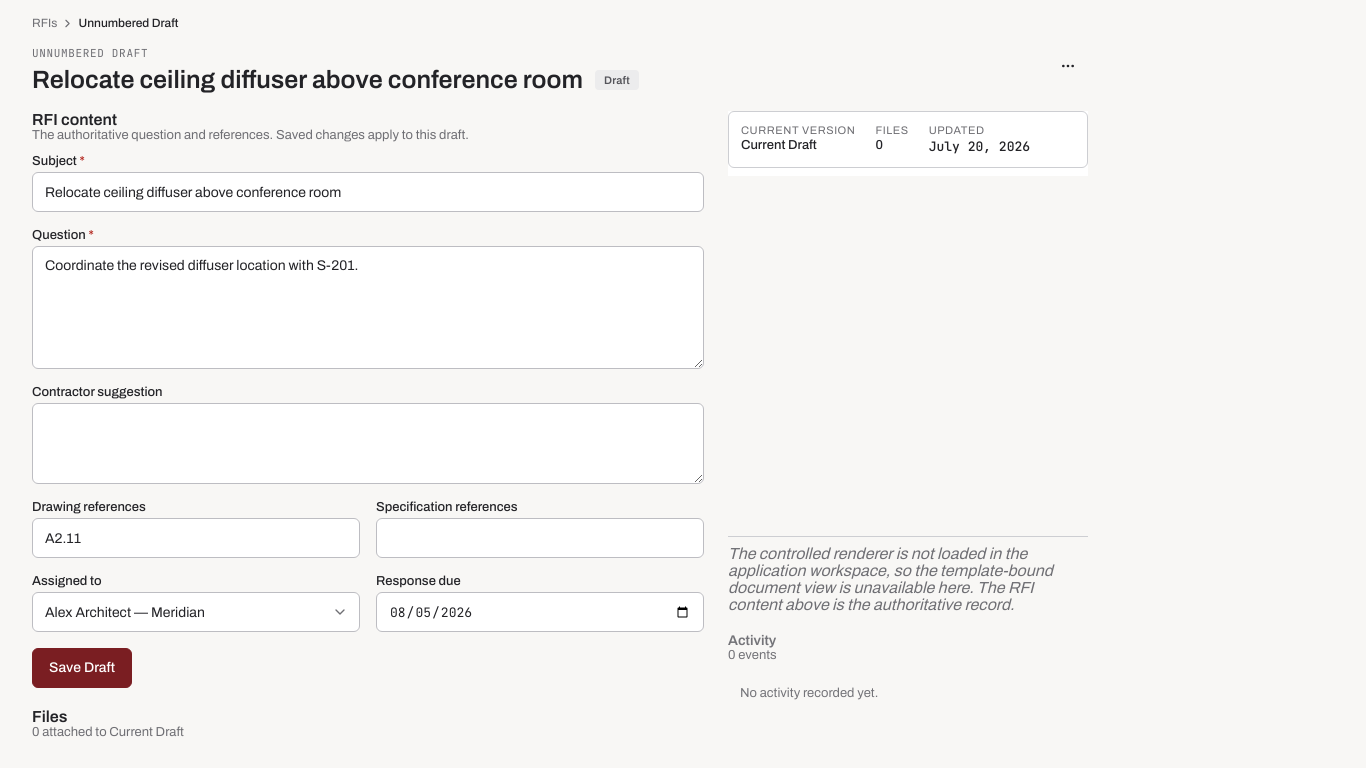
Test: RFI workspace — content and concurrency › says permission was lost rather than retrying a denied save
The image size is (1366, 768).
Expected: the header with class "base-workspace__identity" is shown, left=32, top=46, right=1088, bottom=95
Type "!" into the field labelled "Subject *" at coordinates (368, 192), box left=32, top=172, right=704, bottom=212
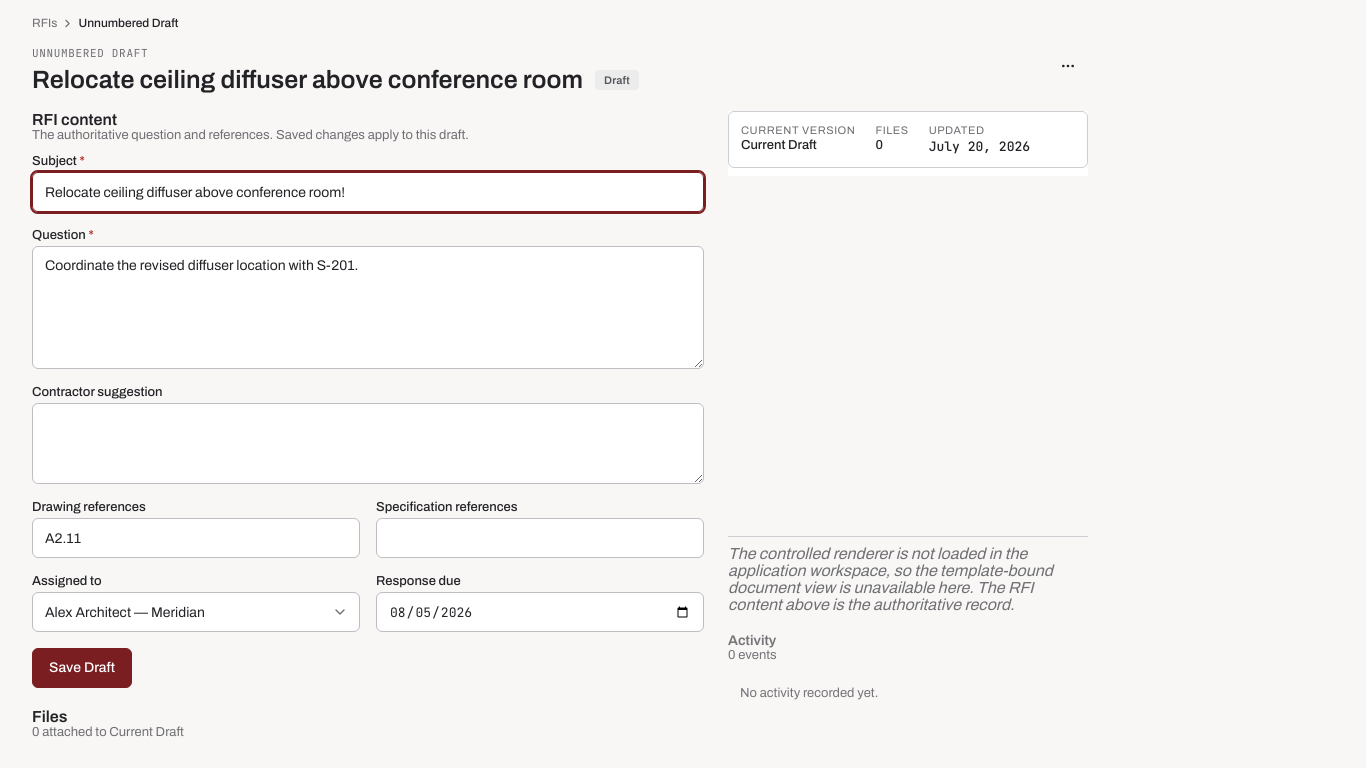
Click the button "Save draft" at coordinates (82, 668), box left=32, top=648, right=132, bottom=688
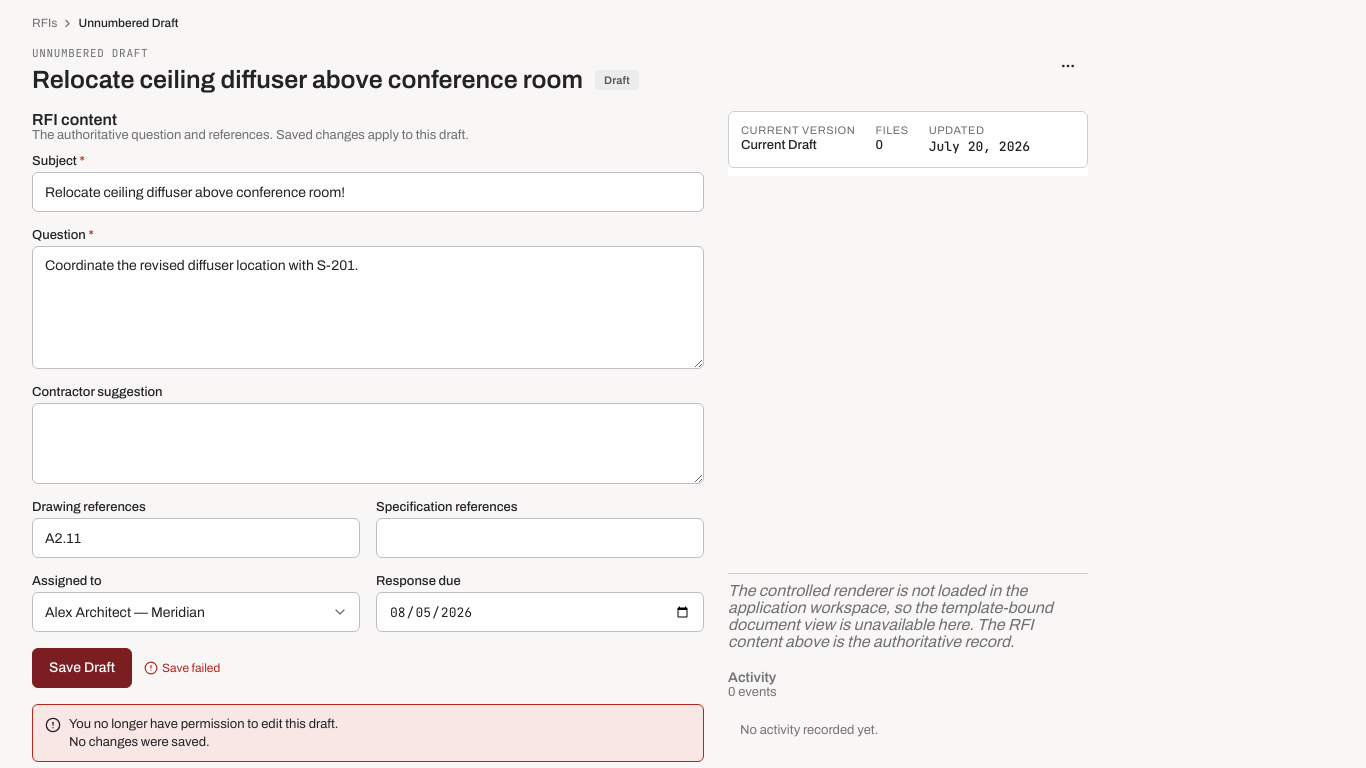
Now the text "You no longer have permission to edit this draft." is shown, box left=69, top=717, right=338, bottom=731
